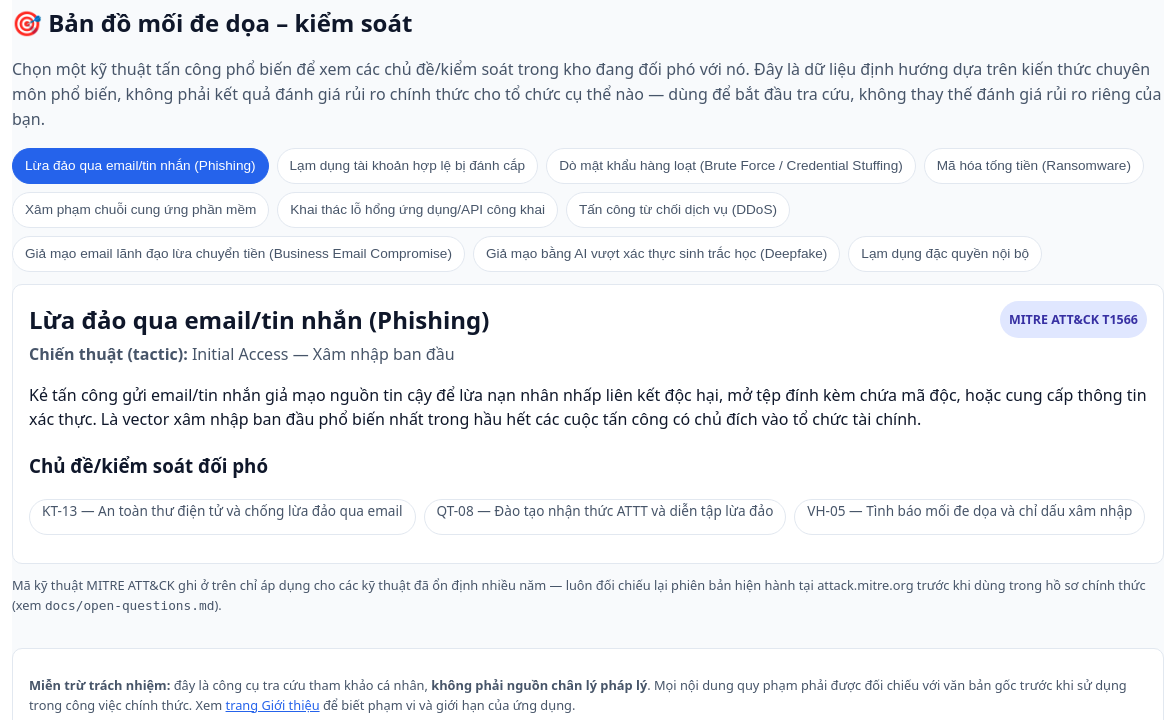
Test: ThreatMapPage — FR-A06 › hien thi chu de kiem soat cho ky thuat mac dinh va cap nhat khi chon ky thuat khac
Expected: the heading "🎯 Bản đồ mối đe dọa – kiểm soát" is shown, [12,6,412,39]
Expected: the text "MITRE ATT&CK T1566" is shown, [1000,301,1147,338]
Click the button "Mã hóa tống tiền (Ransomware)". click: (1034, 166)
box: [924,148,1144,184]
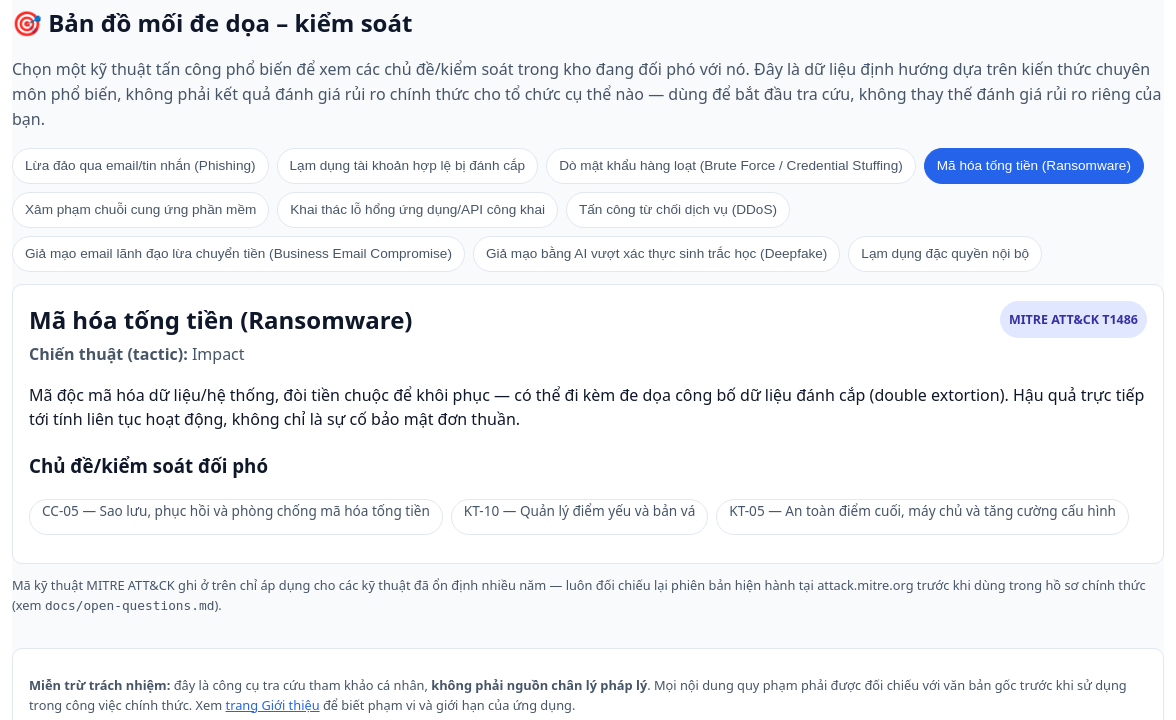
Expected: the text "MITRE ATT&CK T1486" is shown, [1000,301,1147,338]
